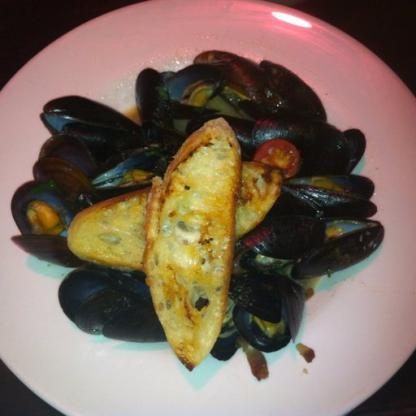toast bread: (142, 115, 242, 363), (66, 167, 280, 264)
